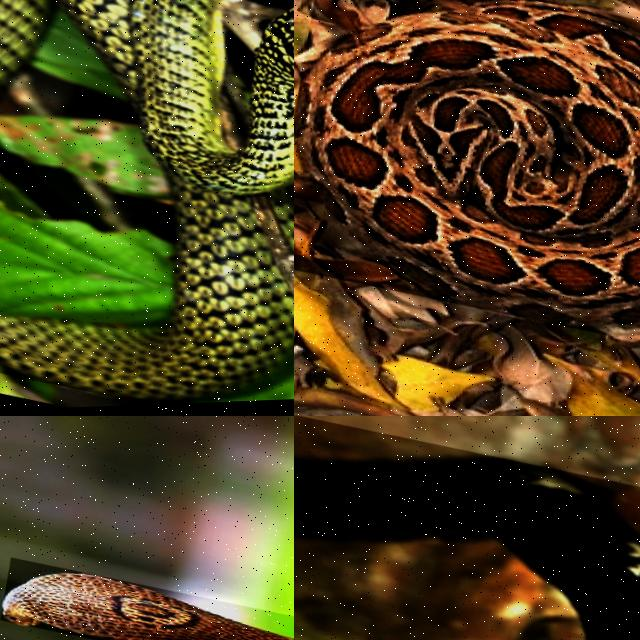Chrysopelea ornata: (0, 0, 293, 400)
Daboia siamensis: (295, 0, 639, 331)
Naja kaouthia: (3, 573, 293, 639)
Naja siamensis: (294, 458, 639, 639)
snake: (0, 0, 293, 400), (295, 0, 639, 331), (294, 458, 639, 639), (3, 573, 293, 639)
